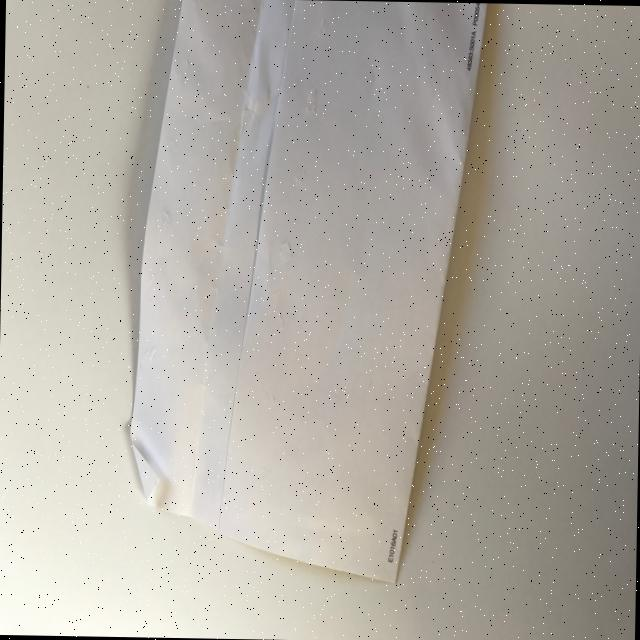paper: (126, 0, 488, 585)
